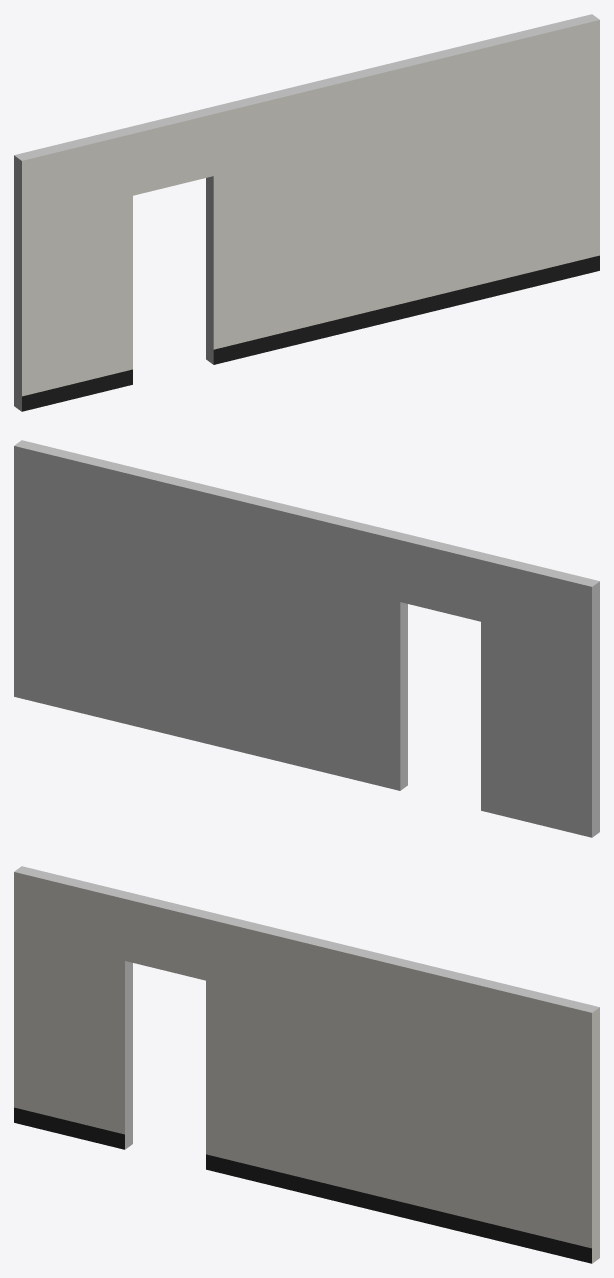
The model's file is Wall 3.fbx.
The picture shows the model from 3 angles, top to bottom: view 1: azimuth 30°, elevation 25°; view 2: azimuth 150°, elevation 25°; view 3: azimuth 330°, elevation 25°; orthographic projection.
Parts seen in each view (by area): view 1: Wall 3; view 2: Wall 3; view 3: Wall 3.
Boxes of the visible parts, left/top/right/bottom form: Wall 3: left=14, top=14, right=599, bottom=411; Wall 3: left=14, top=440, right=599, bottom=837; Wall 3: left=14, top=866, right=599, bottom=1263.
Size of the model in its own units: 657 by 272 by 15.43.
